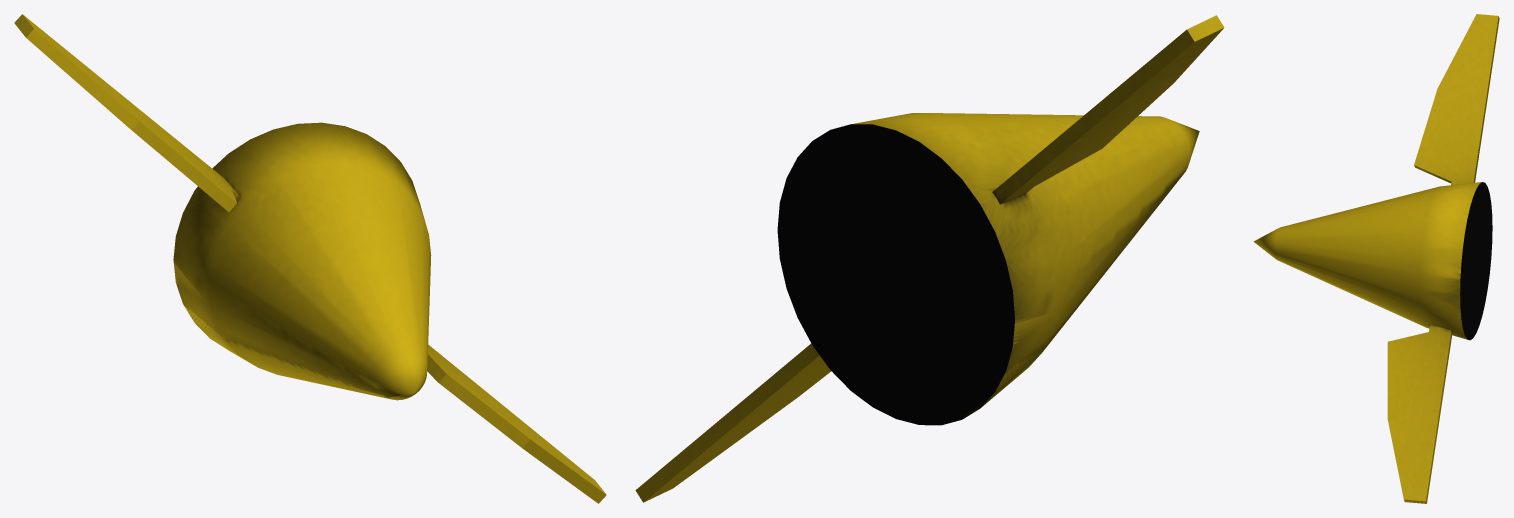
The model's file is glider_hybrid_whoi_right_propeller.dae.
3 views of the same model, side by side, from view 1: azimuth 30°, elevation 25°; view 2: azimuth 150°, elevation 25°; view 3: azimuth 270°, elevation 25° (orthographic). The views are drawn at different scales.
Visible parts, largest first — view 1: Right-Propeller; view 2: Right-Propeller; view 3: Right-Propeller.
Boxes of the visible parts, x1=… form: Right-Propeller: x1=14, y1=14, x2=606, y2=503; Right-Propeller: x1=635, y1=15, x2=1224, y2=502; Right-Propeller: x1=1253, y1=14, x2=1499, y2=503.
Size of the model in its own units: 0.0756 by 0.0504 by 0.0762.
Materials: 1 (1 with a texture image).
